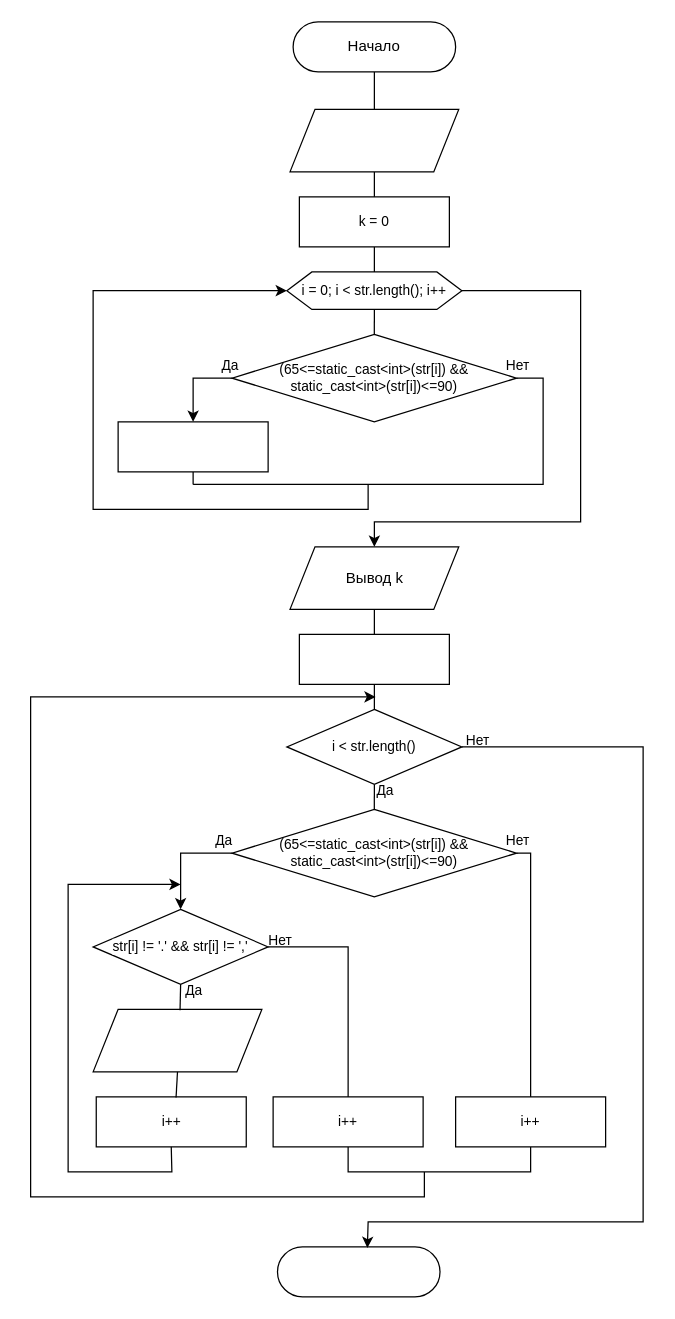
Image size: 675x1319. Some labels were removed from this diagram. The shapes that lost their labels are listed below. From the top down, each one's box as (x1, y1, x2, y2) in pixels, then its label:
(289, 108, 459, 172): Ввод str
(117, 421, 268, 472): k++
(298, 633, 449, 684): i = 0
(92, 1008, 262, 1072): Вывод str[i]
(276, 1246, 440, 1297): Конец
